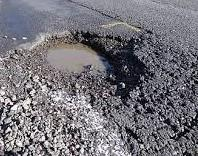alligator-crack: (1, 96, 198, 156), (150, 40, 197, 95)
crack: (124, 22, 154, 34), (68, 0, 97, 11), (96, 11, 125, 22)
pothole: (30, 33, 149, 95)
